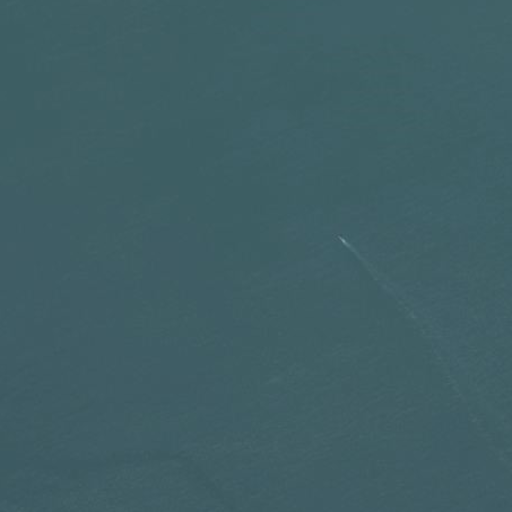ship: (333, 231, 350, 248)
